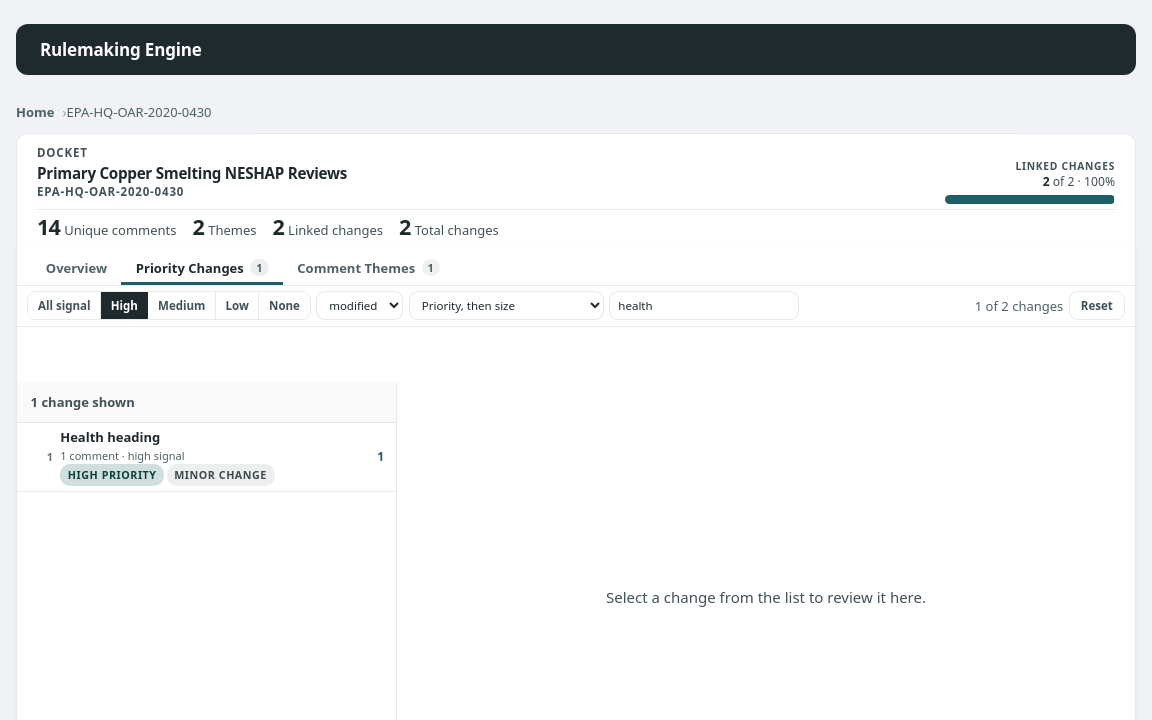
it: App routes › applies docket filters from the URL
Expected: the text "Health heading" is shown, x1=60 y1=428 x2=160 y2=446
Expected: the field showing "health" is shown, x1=609 y1=292 x2=799 y2=320
Click the button "Overview".
click(76, 267)  # box x1=31 y1=249 x2=121 y2=285
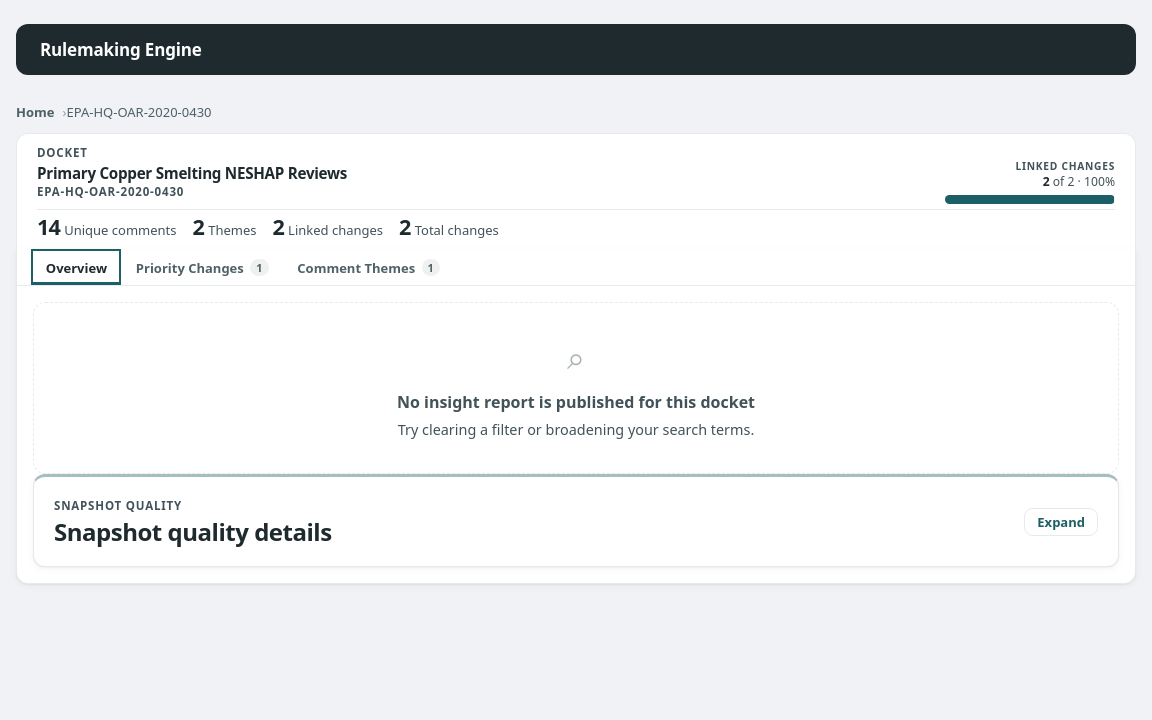
Result: the heading "Snapshot quality details" is shown at x1=54 y1=518 x2=332 y2=546
